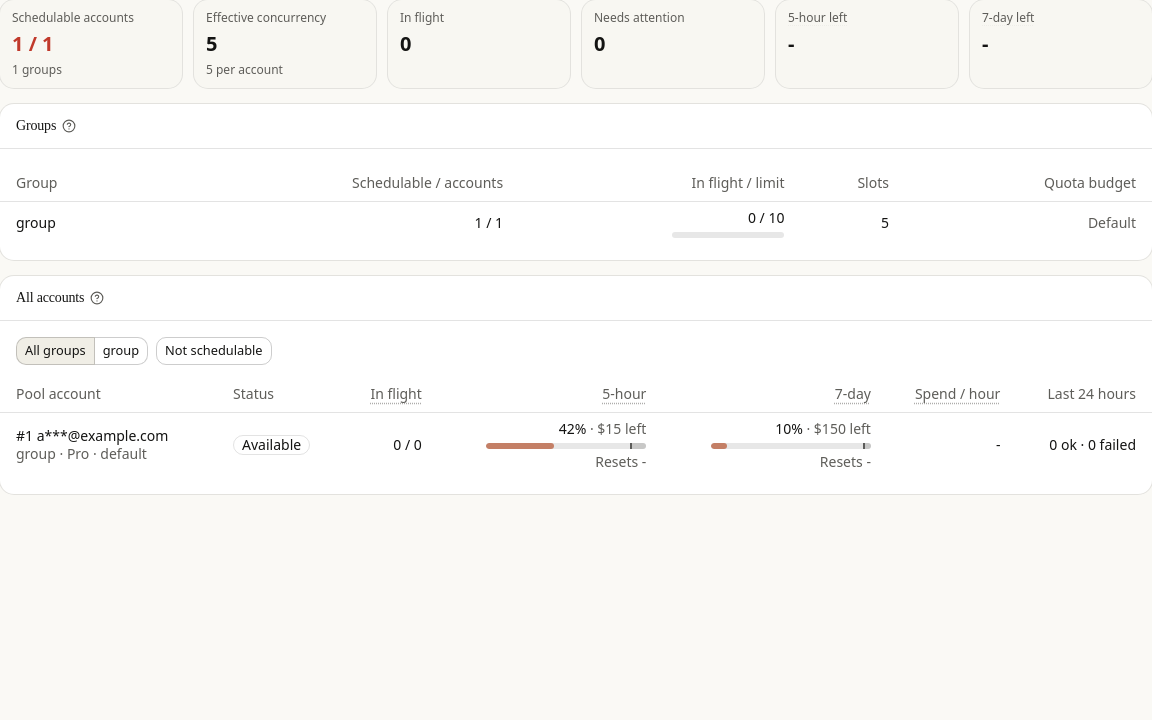
pool account quota meters › explains the window when its cell is hovered
The width and height of the screenshot is (1152, 720).
Hover over the element named "5-hour window" at point(566, 446), box [486,443,646,449]
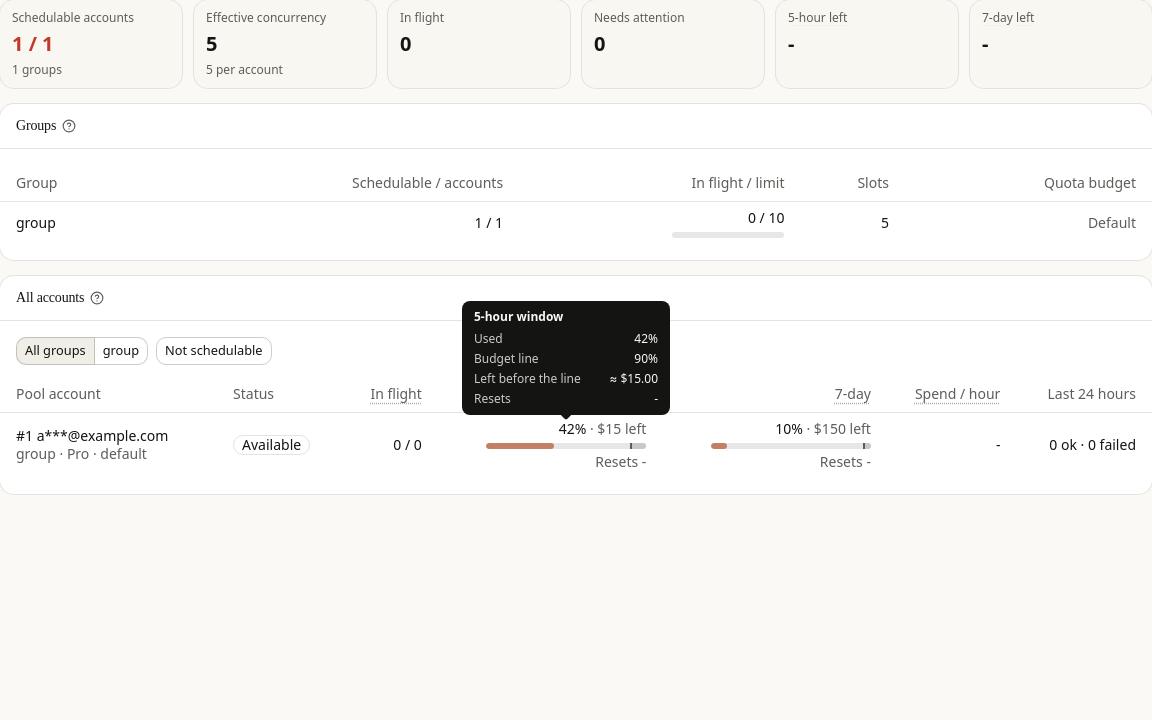
Expected: the text "Left before the line" reads "5-hour window Used 42% Budget line 90% Left before the line ≈ $15.00 Resets -", [462,301,670,415]
